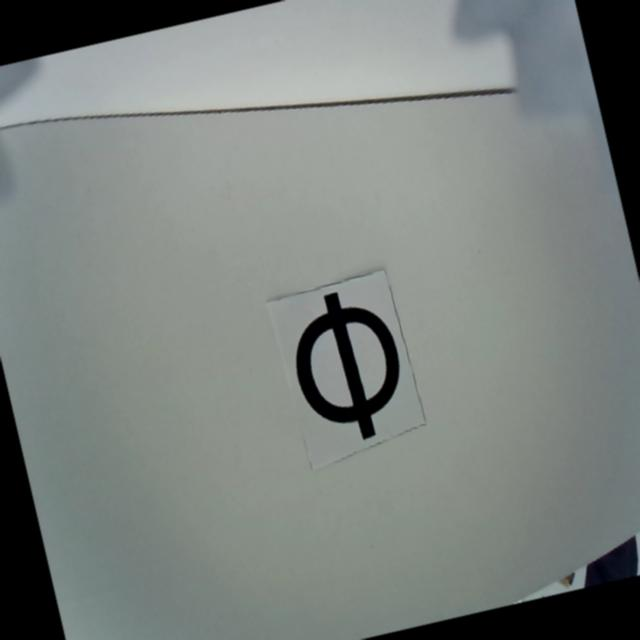F: (279, 278, 416, 451)
